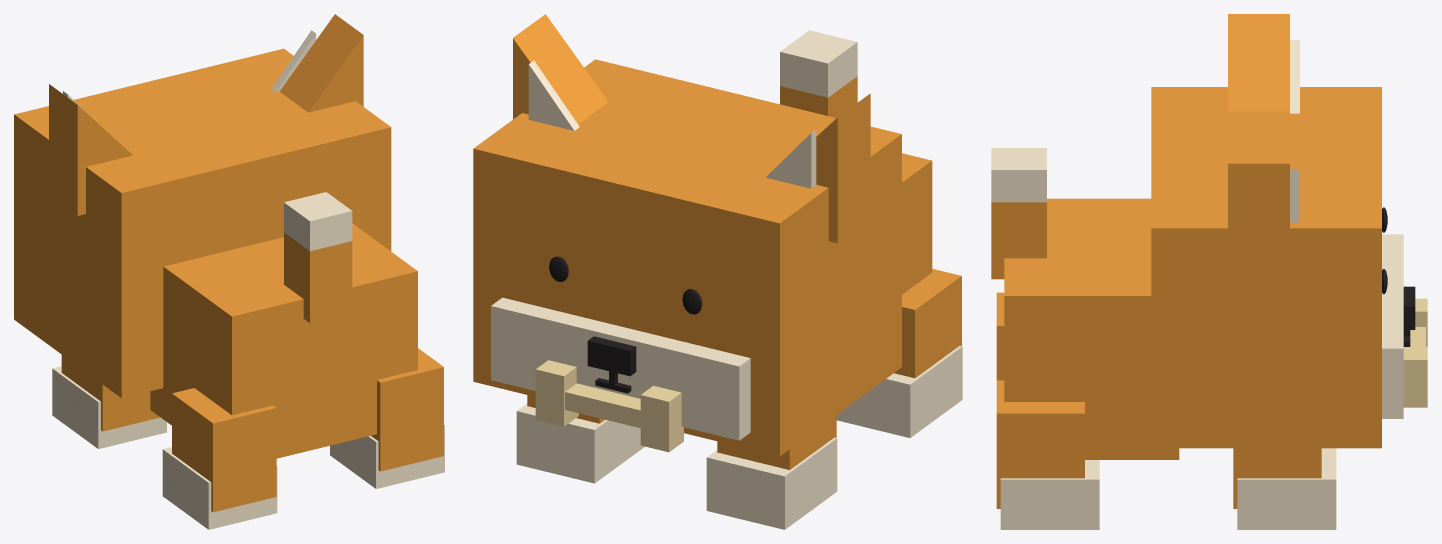
Rendered from Shiba_Block.gltf.
The picture shows the model from 3 angles, left to right: view 1: azimuth 30°, elevation 25°; view 2: azimuth 150°, elevation 25°; view 3: azimuth 270°, elevation 25°; orthographic projection. The views are drawn at different scales.
Visible parts, largest first — view 1: BigHead, ShortTorso, LegBL_Leg, LegBR_Leg, EarL, EarR, TailRoot, LegBL_Paw, LegFL_Paw, TailCreamTip, LegBR_Paw, LegFL_Leg (+1 smaller); view 2: BigHead, CreamMuzzle, LegFL_Paw, LegFR_Paw, EarL, LegBL_Paw, LegBL_Leg, EarR, TailCreamTip, ShortTorso, BoneBlockEndL, BoneBlockEndR (+6 smaller); view 3: BigHead, ShortTorso, EarR, LegBR_Leg, EarL, LegFR_Paw, LegBR_Paw, CreamMuzzle, TailRoot, TailCreamTip, LegFR_Leg, BoneBlockEndR (+4 smaller).
Boxes of the visible parts, left/top/right/bottom form: BigHead: left=14, top=48, right=391, bottom=398; ShortTorso: left=150, top=223, right=417, bottom=458; LegBL_Leg: left=172, top=388, right=276, bottom=512; LegBR_Leg: left=371, top=348, right=443, bottom=471; EarL: left=49, top=84, right=132, bottom=215; EarR: left=279, top=14, right=363, bottom=112; TailRoot: left=284, top=232, right=352, bottom=322; LegBL_Paw: left=162, top=447, right=277, bottom=529; LegFL_Paw: left=52, top=366, right=166, bottom=448; TailCreamTip: left=284, top=192, right=352, bottom=251; LegBR_Paw: left=330, top=425, right=444, bottom=488; LegFL_Leg: left=61, top=355, right=160, bottom=431; BigHead: left=473, top=59, right=901, bottom=456; CreamMuzzle: left=491, top=297, right=750, bottom=440; LegFL_Paw: left=706, top=437, right=837, bottom=529; LegFR_Paw: left=516, top=403, right=644, bottom=483; EarL: left=816, top=93, right=870, bottom=243; LegBL_Paw: left=836, top=346, right=962, bottom=437; LegBL_Leg: left=894, top=269, right=961, bottom=378; EarR: left=513, top=14, right=608, bottom=124; TailCreamTip: left=780, top=30, right=857, bottom=97; ShortTorso: left=902, top=153, right=932, bottom=294; BoneBlockEndL: left=640, top=385, right=683, bottom=452; BoneBlockEndR: left=535, top=360, right=578, bottom=426; BigHead: left=1151, top=87, right=1381, bottom=448; ShortTorso: left=1004, top=198, right=1179, bottom=459; EarR: left=1228, top=163, right=1289, bottom=282; LegBR_Leg: left=996, top=380, right=1084, bottom=508; EarL: left=1228, top=14, right=1289, bottom=111; LegFR_Paw: left=1237, top=448, right=1336, bottom=529; LegBR_Paw: left=1000, top=460, right=1099, bottom=529; CreamMuzzle: left=1382, top=234, right=1403, bottom=418; TailRoot: left=991, top=202, right=1046, bottom=279; TailCreamTip: left=991, top=148, right=1046, bottom=202; LegFR_Leg: left=1233, top=448, right=1321, bottom=508; BoneBlockEndR: left=1403, top=347, right=1427, bottom=407.
Size of the model in its own units: 2.29 by 2.7 by 2.82.
